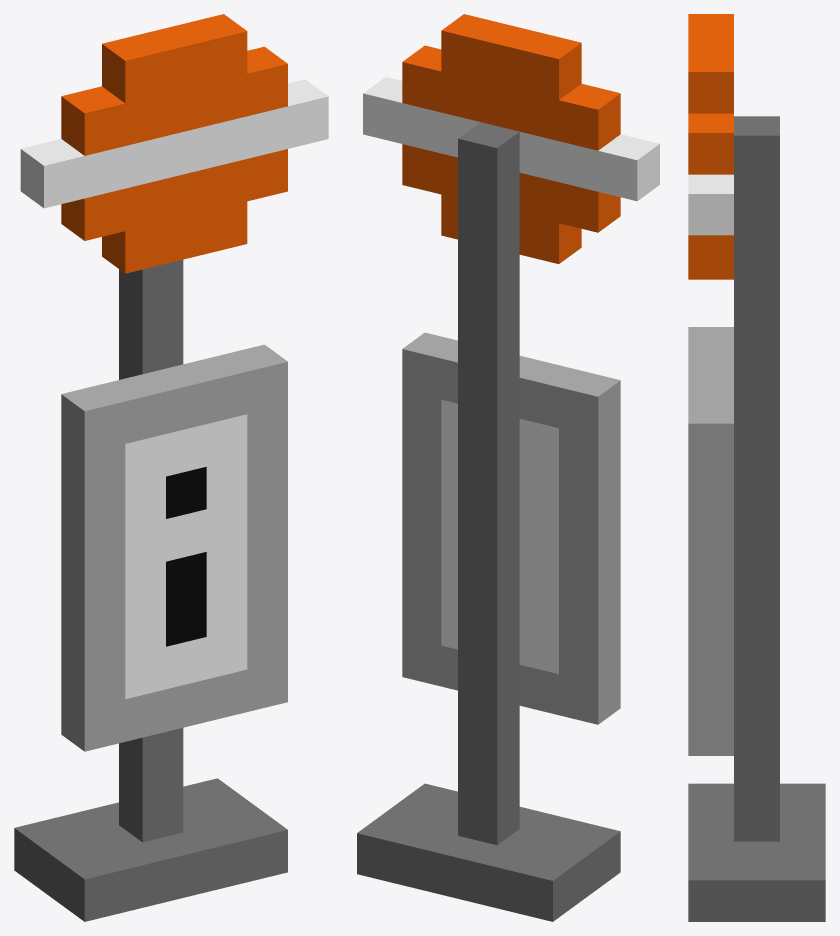
Rendered from Bus stop.fbx.
3 views of the same model, side by side, from view 1: azimuth 30°, elevation 25°; view 2: azimuth 150°, elevation 25°; view 3: azimuth 270°, elevation 25° (orthographic). The views are drawn at different scales.
Visible parts, largest first — view 1: 立方体.001, 立方体.061, 立方体.088, 立方体.080, 立方体.093, 立方体.068, 立方体.016, 立方体.019, 立方体.043, 立方体.049, 立方体.055, 立方体.031 (+69 smaller); view 2: 立方体.093, 立方体.011, 立方体.088, 立方体.087, 立方体.061, 立方体.080, 立方体.031, 立方体.037, 立方体.043, 立方体.049, 立方体.055, 立方体.017 (+69 smaller); view 3: 立方体.065, 立方体.086, 立方体.087, 立方体.092, 立方体.095, 立方体.005, 立方体.010, 立方体.015, 立方体.017, 立方体.041, 立方体.053, 立方体.016 (+36 smaller).
Part boxes in pixels (x1=…): 立方体.001: x1=61, y1=852, x2=125, y2=921; 立方体.061: x1=61, y1=384, x2=125, y2=453; 立方体.088: x1=61, y1=86, x2=125, y2=155; 立方体.080: x1=20, y1=139, x2=84, y2=208; 立方体.093: x1=102, y1=34, x2=165, y2=103; 立方体.068: x1=119, y1=272, x2=183, y2=331; 立方体.016: x1=119, y1=783, x2=183, y2=842; 立方体.019: x1=61, y1=692, x2=125, y2=751; 立方体.043: x1=61, y1=522, x2=125, y2=581; 立方体.049: x1=61, y1=479, x2=125, y2=538; 立方体.055: x1=61, y1=437, x2=125, y2=496; 立方体.031: x1=61, y1=607, x2=125, y2=666; 立方体.093: x1=519, y1=33, x2=581, y2=99; 立方体.011: x1=513, y1=855, x2=575, y2=921; 立方体.088: x1=559, y1=83, x2=620, y2=150; 立方体.087: x1=458, y1=122, x2=519, y2=188; 立方体.061: x1=559, y1=370, x2=620, y2=437; 立方体.080: x1=598, y1=134, x2=659, y2=201; 立方体.031: x1=559, y1=585, x2=620, y2=642; 立方体.037: x1=559, y1=544, x2=620, y2=601; 立方体.043: x1=559, y1=503, x2=620, y2=560; 立方体.049: x1=559, y1=462, x2=620, y2=519; 立方体.055: x1=559, y1=421, x2=620, y2=478; 立方体.017: x1=458, y1=747, x2=519, y2=803; 立方体.065: x1=688, y1=404, x2=733, y2=465; 立方体.086: x1=688, y1=174, x2=733, y2=235; 立方体.087: x1=734, y1=116, x2=779, y2=177; 立方体.092: x1=688, y1=113, x2=733, y2=174; 立方体.095: x1=688, y1=52, x2=733, y2=113; 立方体.005: x1=688, y1=861, x2=733, y2=921; 立方体.010: x1=734, y1=861, x2=779, y2=921; 立方体.015: x1=780, y1=861, x2=825, y2=921; 立方体.017: x1=734, y1=758, x2=779, y2=800; 立方体.041: x1=688, y1=589, x2=733, y2=631; 立方体.053: x1=688, y1=506, x2=733, y2=548; 立方体.016: x1=734, y1=800, x2=779, y2=841.
Size of the model in its own units: 700 by 2000 by 300.
